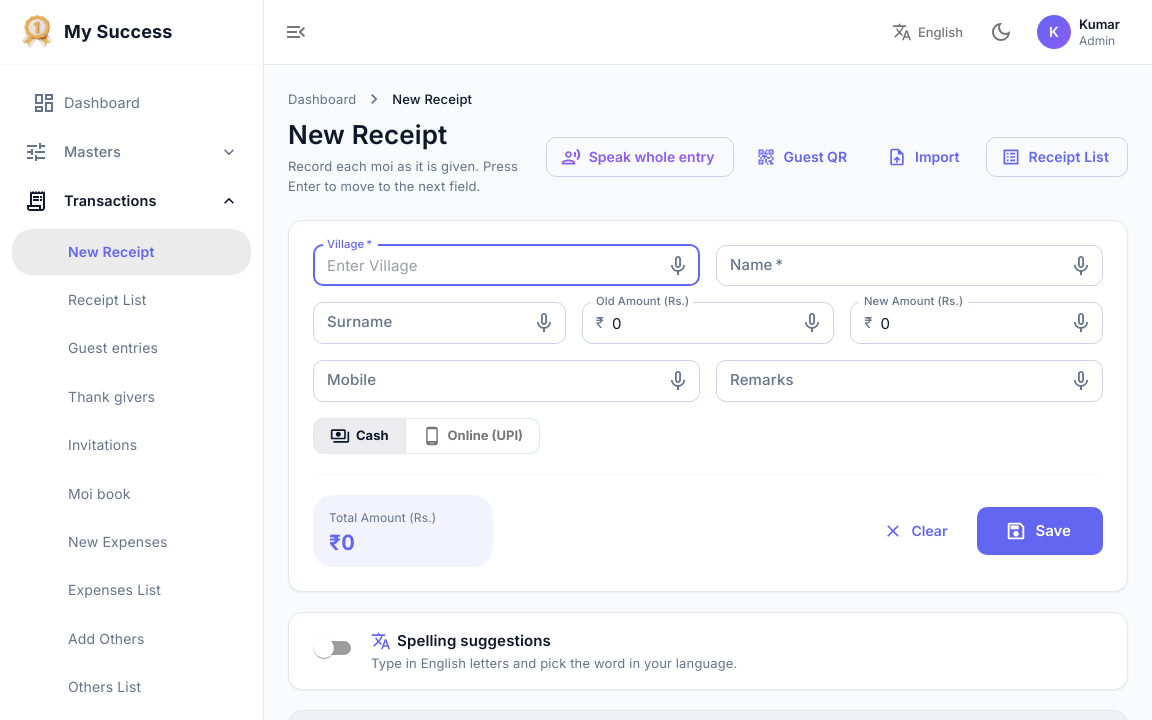
Scenario: New receipt › does not save without village, name and an amount
Click the button "Save": point(1040, 531) [978, 507, 1103, 555]
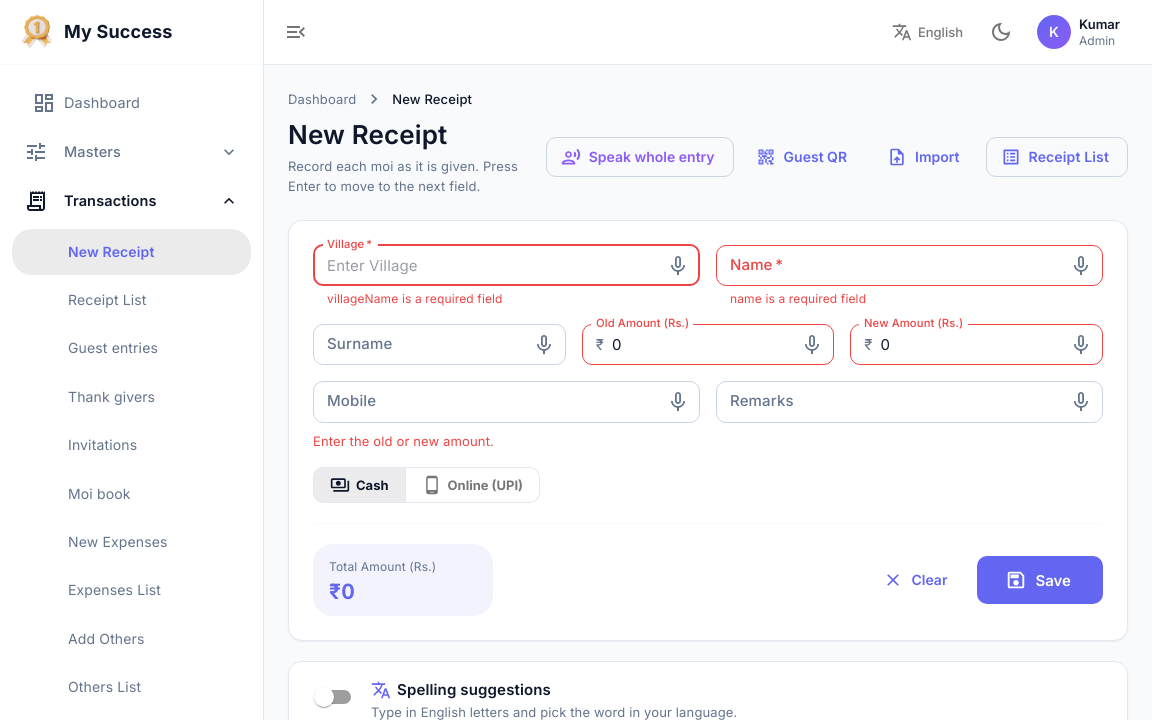
Now the field labelled "Village *" is marked as invalid, box [313, 245, 650, 286]
